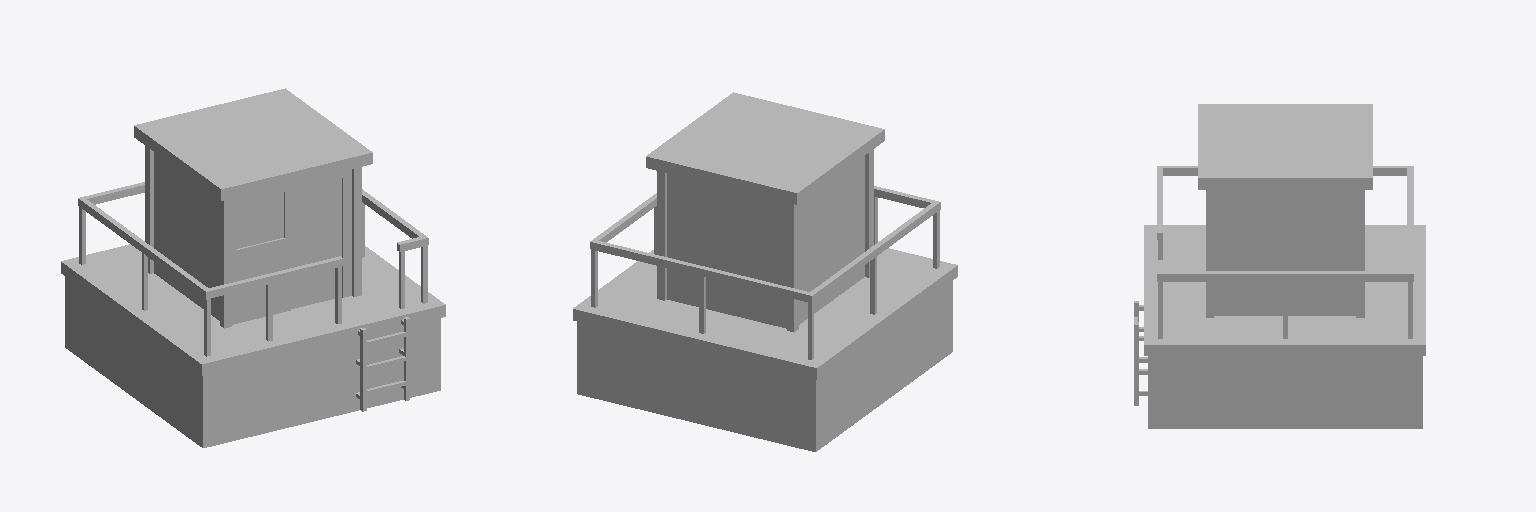
Rendered from Cabin-03.obj.
The picture shows the model from 3 angles: view 1: azimuth 30°, elevation 25°; view 2: azimuth 150°, elevation 25°; view 3: azimuth 270°, elevation 25°; orthographic projection.
Visible parts, largest first — view 1: Cabin-03; view 2: Cabin-03; view 3: Cabin-03.
Boxes of the visible parts, x1,y1,x2,y2 form: Cabin-03: [61, 88, 445, 447]; Cabin-03: [573, 92, 957, 451]; Cabin-03: [1134, 104, 1425, 428].
Size of the model in its own units: 3.56 by 3.21 by 3.7.